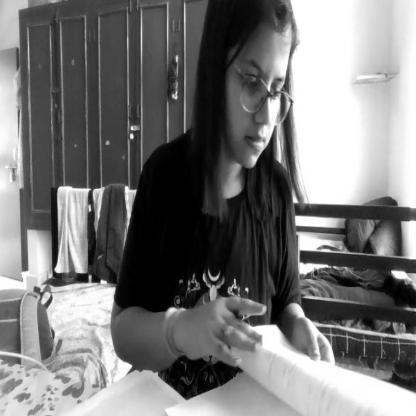Distracted: (209, 0, 298, 183)
